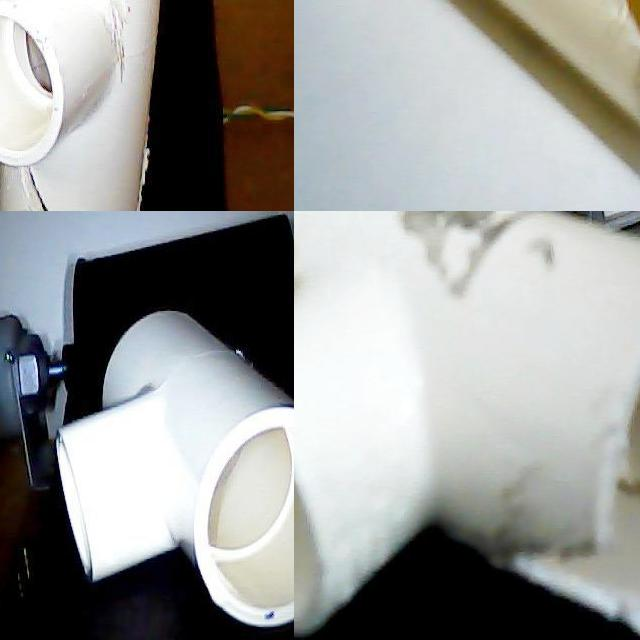Defective: (503, 308, 640, 640), (310, 211, 595, 279), (471, 536, 620, 595), (7, 120, 88, 211), (91, 23, 163, 95), (335, 211, 438, 236), (613, 483, 640, 559), (294, 256, 315, 350)
T Joint: (59, 310, 294, 633)
